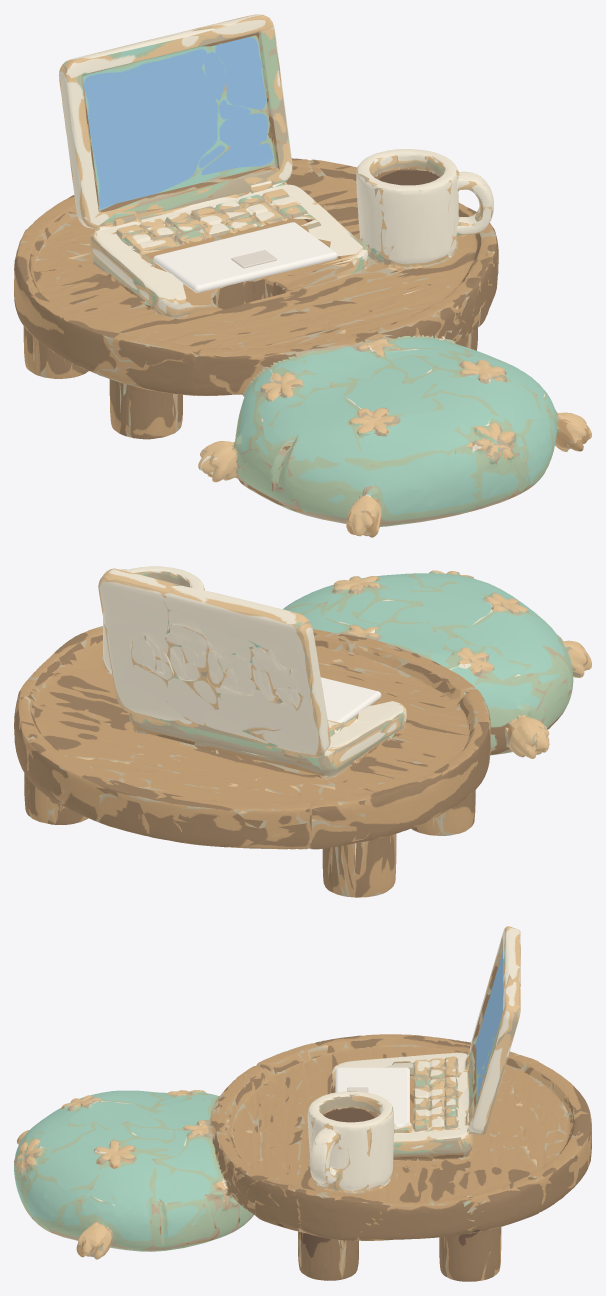
File: round-laptop-workstation-flat-source-v4.glb
3 views of the same model, one above another, from view 1: azimuth 30°, elevation 25°; view 2: azimuth 150°, elevation 25°; view 3: azimuth 270°, elevation 25° (orthographic). The views are drawn at different scales.
Visible parts, largest first — view 1: round-laptop-workstation-flat-source-v4; view 2: round-laptop-workstation-flat-source-v4; view 3: round-laptop-workstation-flat-source-v4.
Part boxes in pixels (box(x1,y1,x2,y2)): round-laptop-workstation-flat-source-v4: box(14, 14, 591, 537); round-laptop-workstation-flat-source-v4: box(14, 566, 591, 897); round-laptop-workstation-flat-source-v4: box(14, 926, 591, 1281).
Size of the model in its own units: 1.35 by 0.8513 by 1.9.
3 materials, 1 textured.
